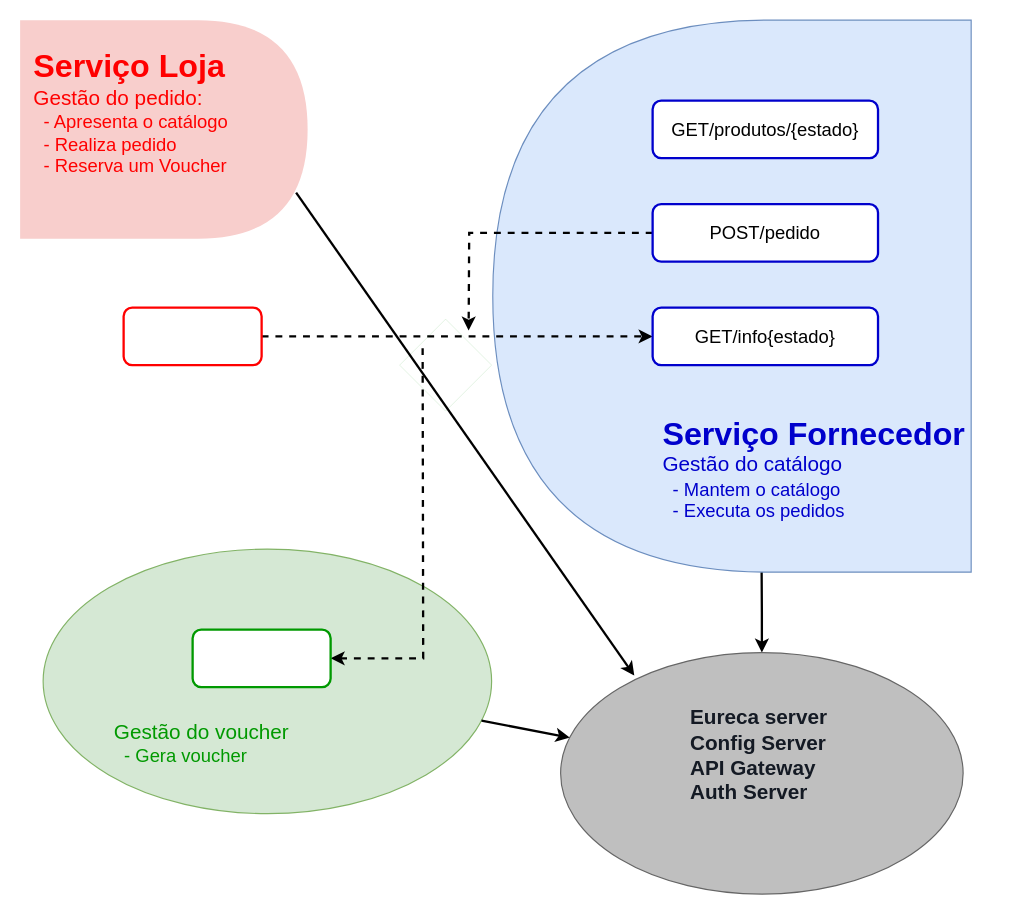
Image size: 1017x914. Some labels were removed from this diagram. Here are the shapes that lost their labels. From the top down, the centre of each, then its label:
At pixel 192 336: "POST/compra".
At pixel 261 658: "POST/voucher".
